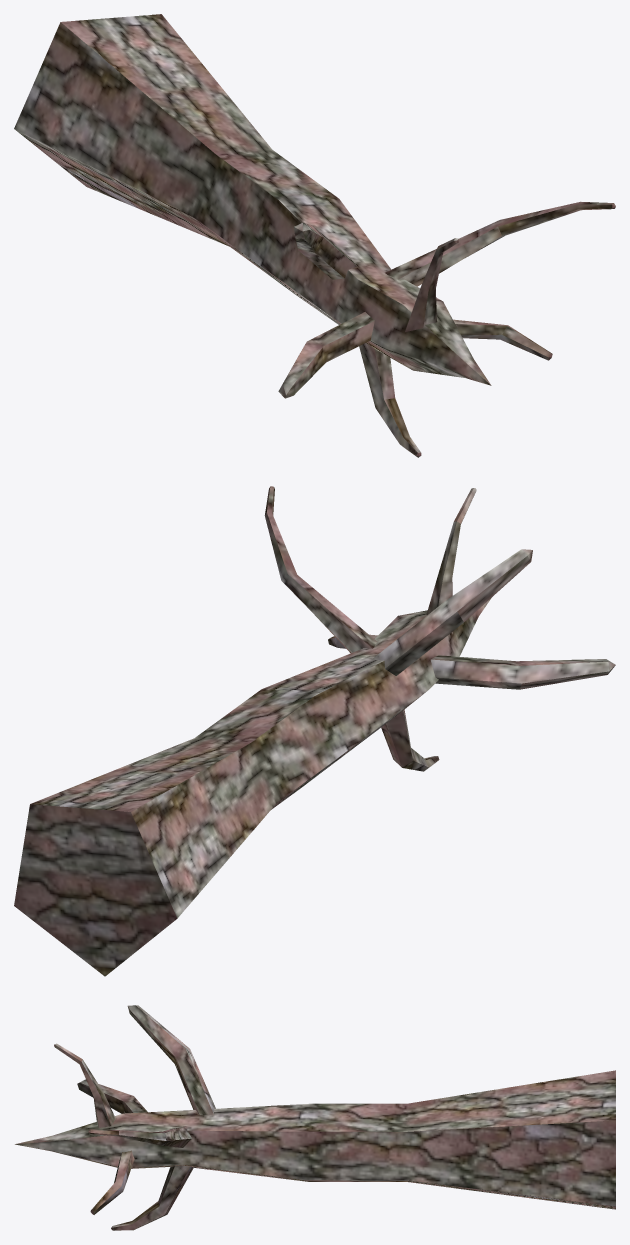
File: tree22_bark_01.obj
3 renders of one model, top to bottom at view 1: azimuth 30°, elevation 25°; view 2: azimuth 150°, elevation 25°; view 3: azimuth 270°, elevation 25°, orthographic. The views are drawn at different scales.
Visible parts, largest first — view 1: polySurface7; view 2: polySurface7; view 3: polySurface7.
Part boxes in pixels (x1,y1,x2,y2): polySurface7: (14,14,615,457); polySurface7: (14,486,615,976); polySurface7: (15,1005,615,1230).
Size of the model in its own units: 2.84 by 1.99 by 5.77.
